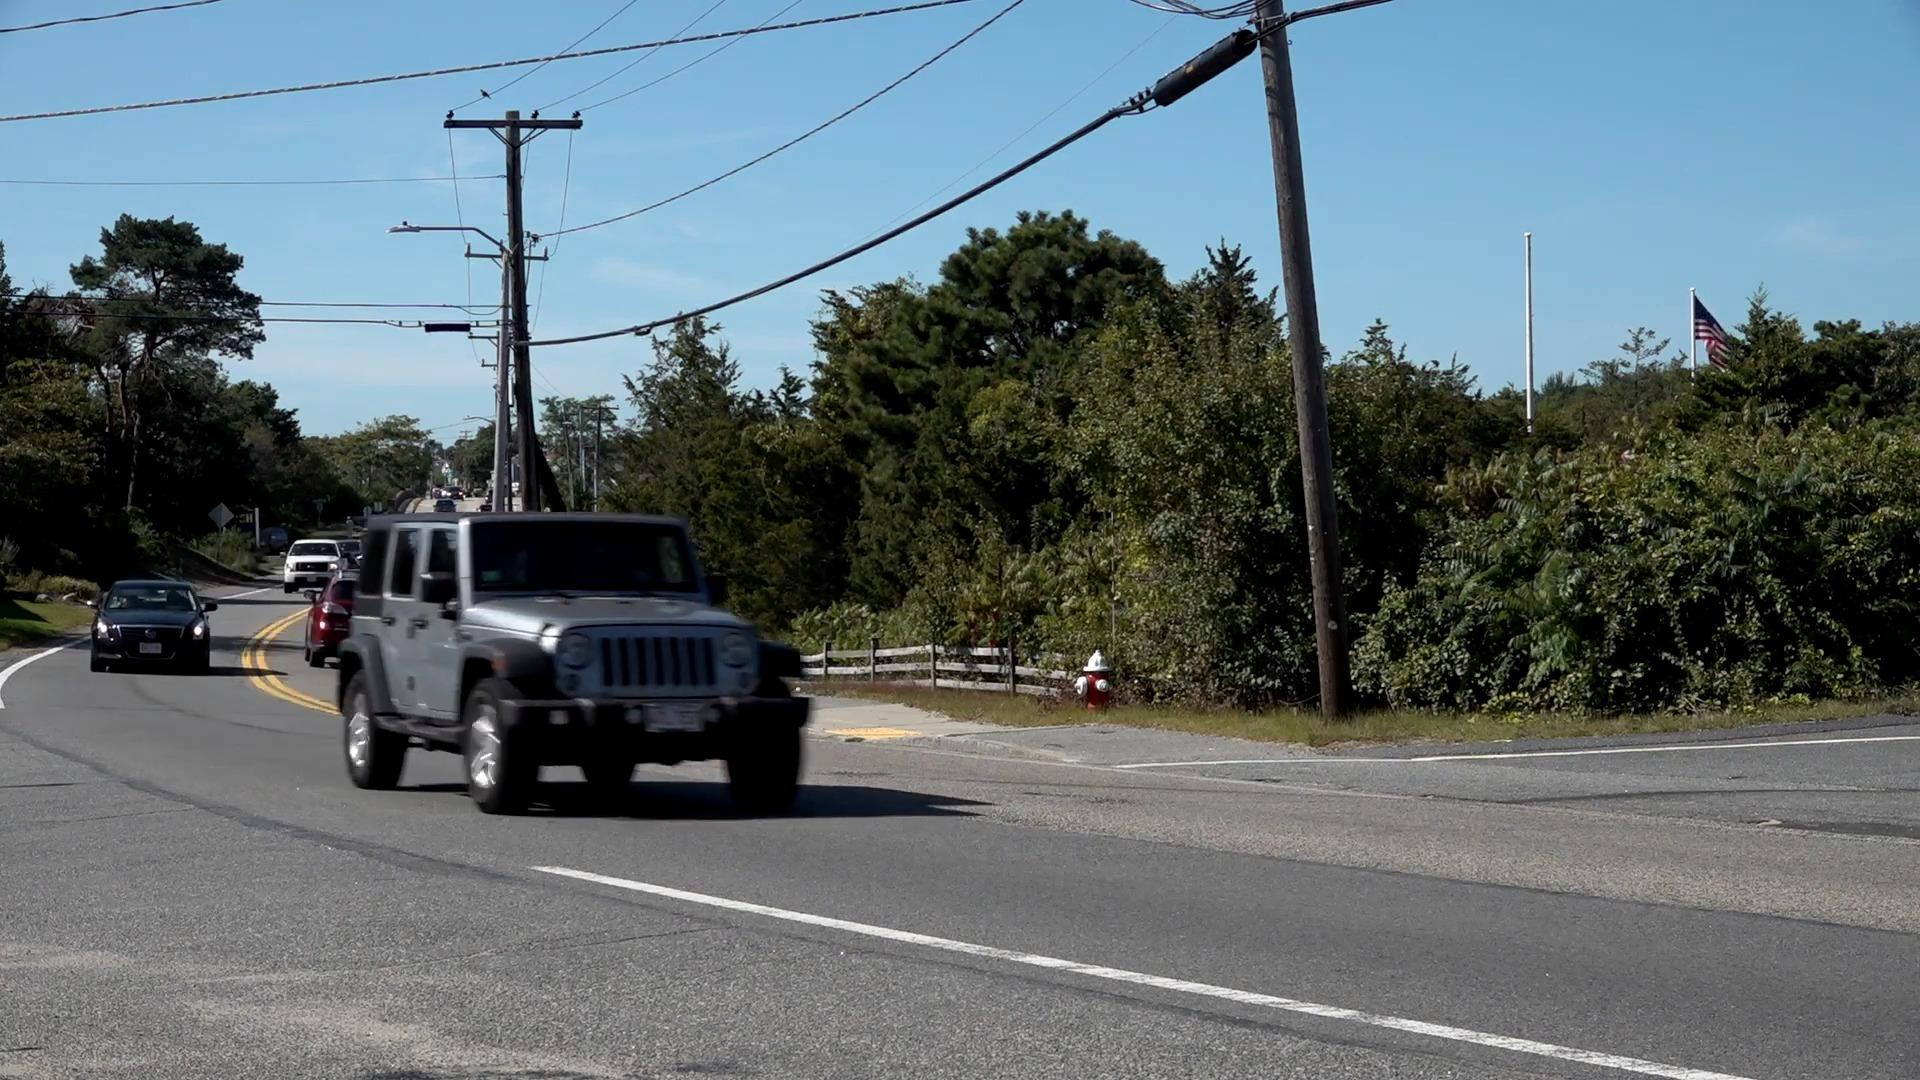pickup: (281, 539, 339, 599)
sedans: (93, 580, 214, 677)
suv: (344, 510, 814, 814)
